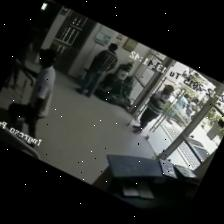person: (7, 49, 56, 138), (75, 43, 117, 97), (132, 85, 172, 134), (166, 94, 187, 124), (4, 63, 19, 88), (185, 98, 198, 117)
